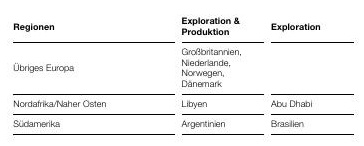table: (0, 0, 364, 146)
